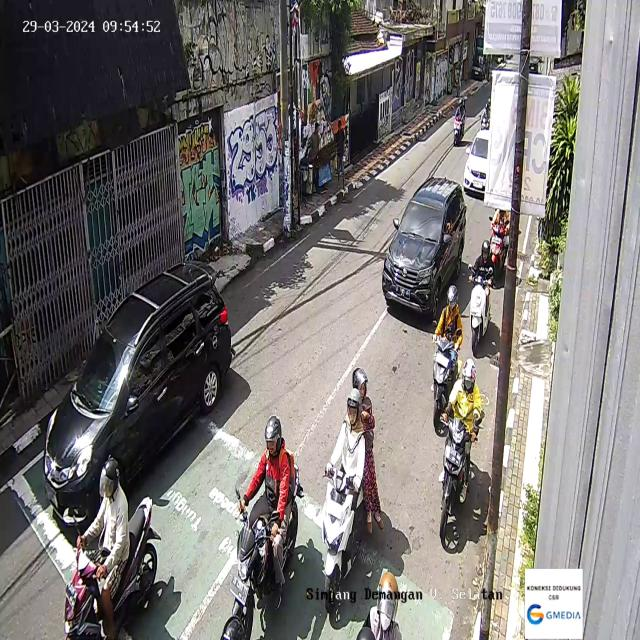car: (42, 260, 235, 531), (382, 174, 466, 320), (463, 128, 489, 198)
motorcycle: (220, 417, 302, 639), (64, 455, 160, 639), (321, 366, 381, 612), (438, 358, 484, 553), (431, 283, 462, 431), (467, 239, 494, 356), (488, 211, 509, 274), (453, 100, 466, 146), (480, 98, 490, 130)
